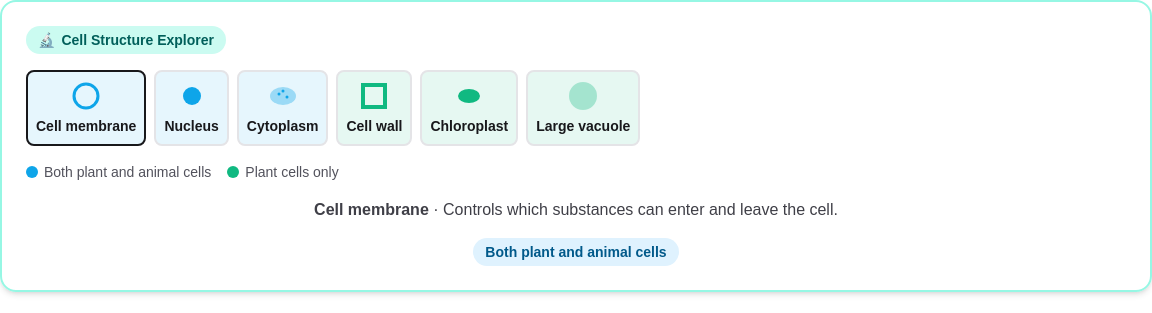
Test: CellStructureExplorer › clicking a plant-only structure shows it is found in plant cells only
Click the button "Chloroplast".
click(469, 108)  # box [420,70,518,146]
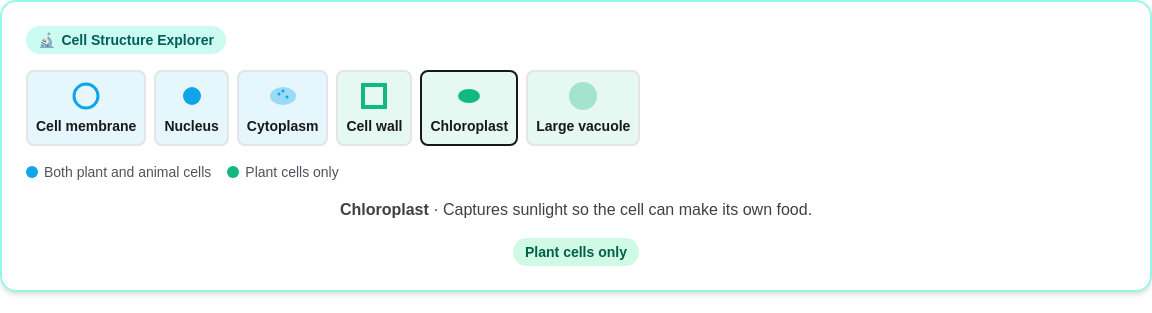
Check: the text with test id "structure-name" reads "Chloroplast", box [340,201,429,218]
Check: the text with test id "structure-function" reads "Captures sunlight so the cell can make its own food.", box [443,201,812,218]
Check: the text with test id "structure-group" reads "Plant cells only", box [525,244,627,260]
